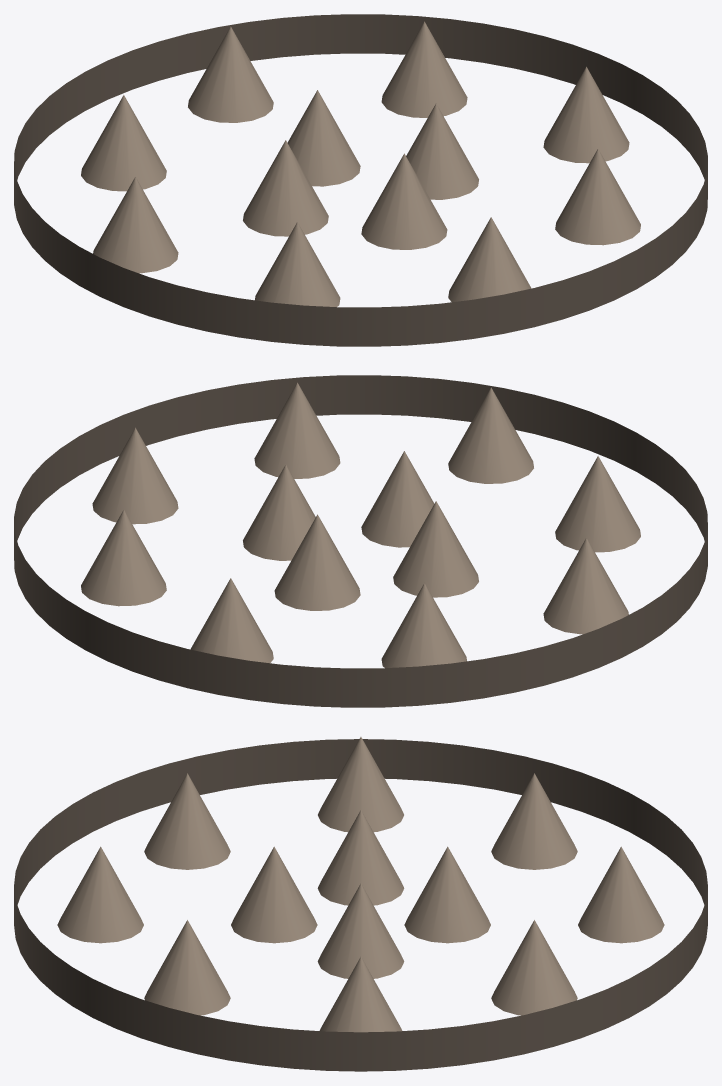
File: snares_of_hatred_r2_a.obj
3 renders of one model, top to bottom at view 1: azimuth 30°, elevation 25°; view 2: azimuth 150°, elevation 25°; view 3: azimuth 270°, elevation 25°, orthographic.
Parts seen in each view (by area): view 1: spikes_r2; view 2: spikes_r2; view 3: spikes_r2.
Boxes of the visible parts, x1,y1,x2,y2 form: spikes_r2: [14, 14, 707, 346]; spikes_r2: [14, 375, 707, 707]; spikes_r2: [14, 737, 707, 1071].
Size of the model in its own units: 4 by 0.5 by 4.
